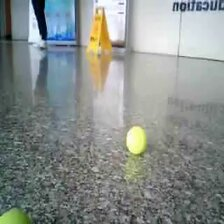tennis: (126, 126, 147, 155)
